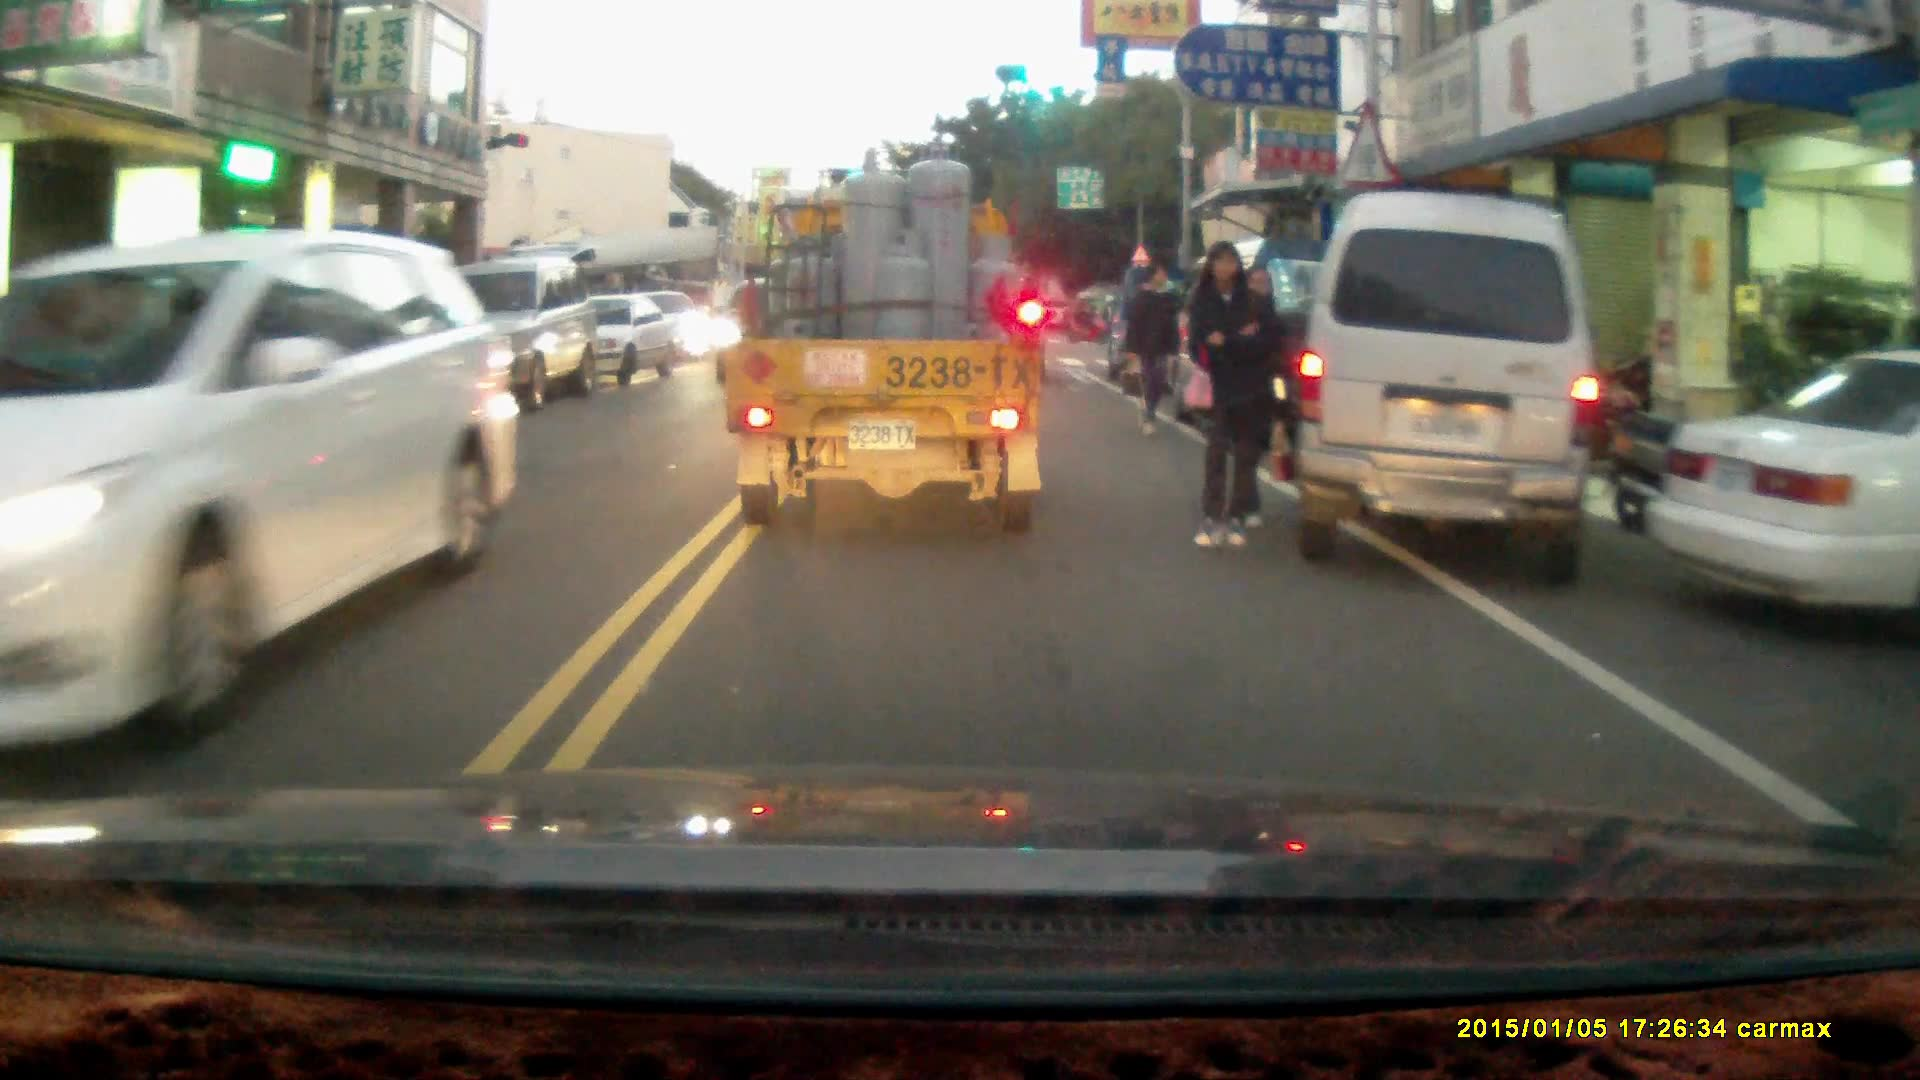pedestrian: (1184, 238, 1278, 552), (1124, 261, 1180, 435)
rider: (1068, 290, 1111, 343)
vehicle: (1, 224, 539, 709), (718, 138, 1052, 533), (1287, 190, 1604, 585), (1648, 354, 1920, 628), (385, 248, 601, 419), (532, 289, 682, 389)
